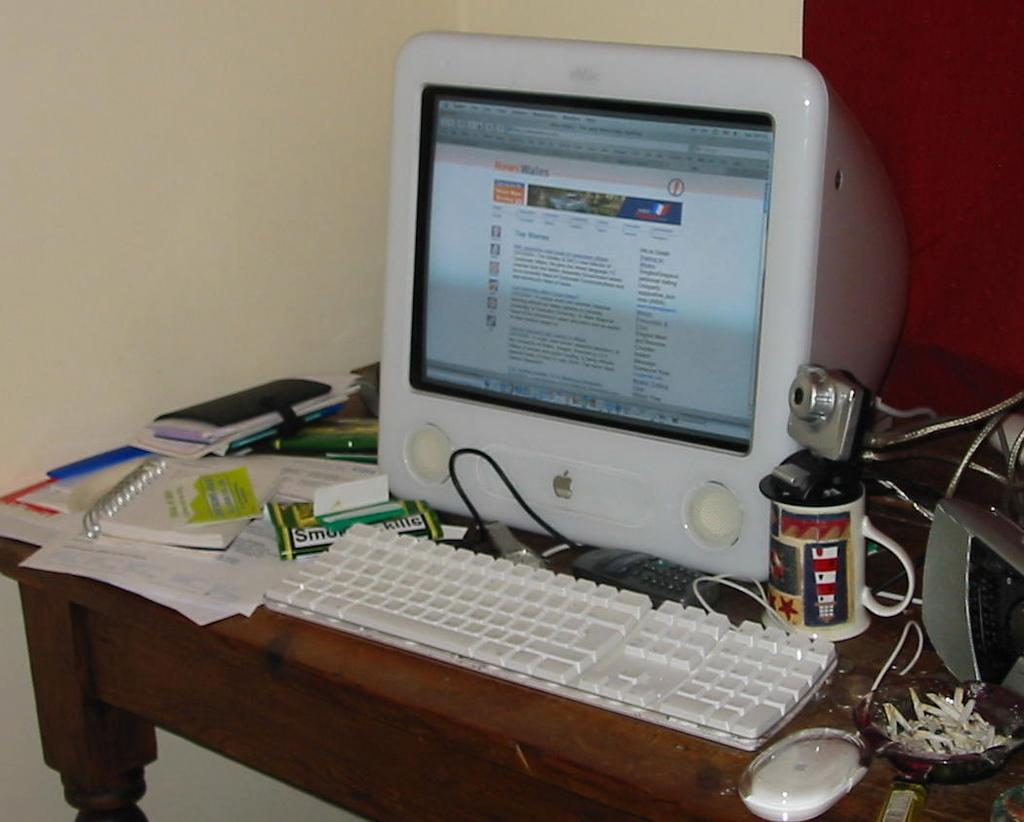Computer-keyboard: (259, 518, 839, 755)
Computer-monitor: (366, 40, 880, 631)
